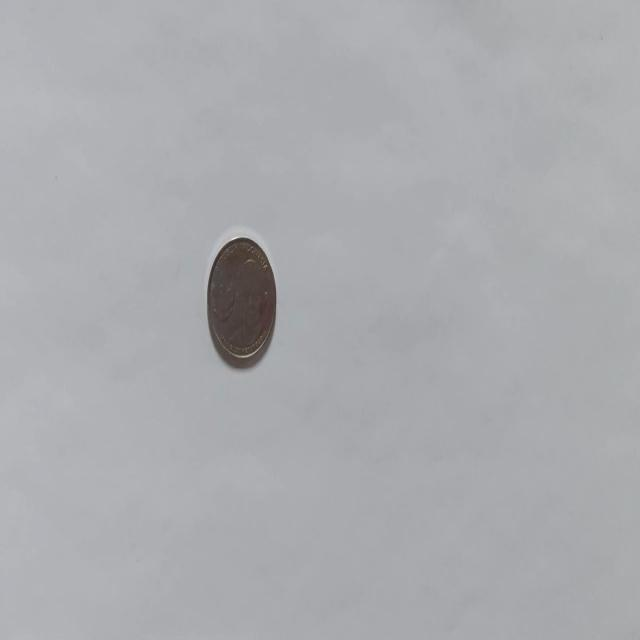seribu rupiah koin: (206, 232, 276, 368)
